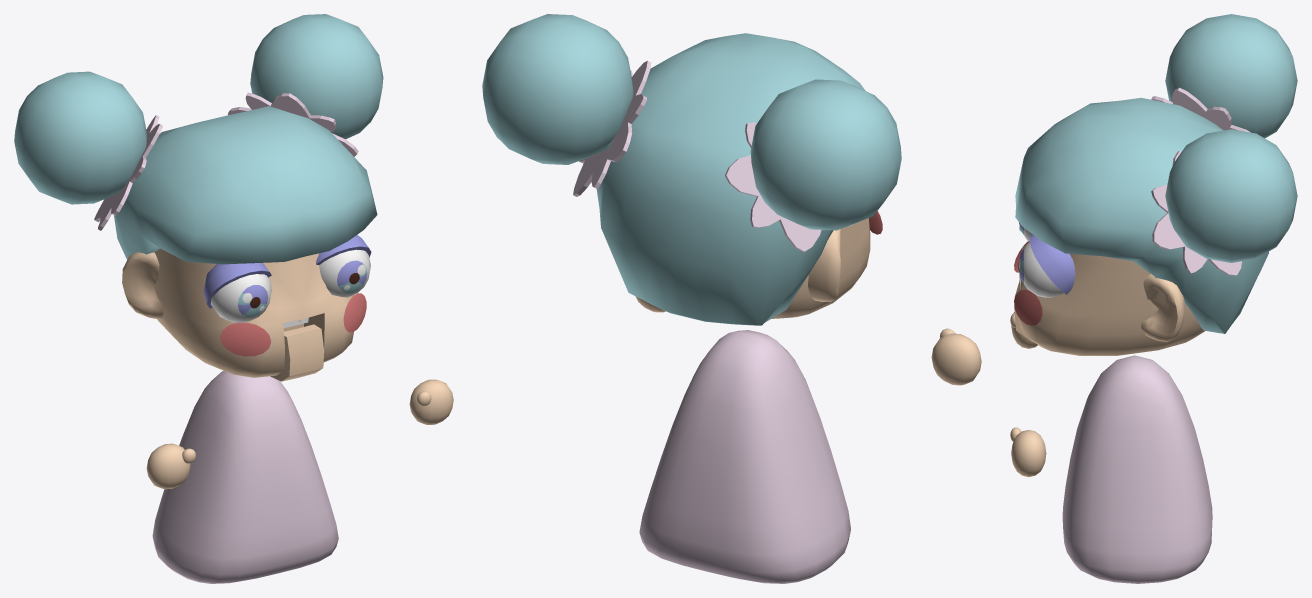
Rendered from enm_basic.fbx.
3 views of the same model, side by side, from view 1: azimuth 30°, elevation 25°; view 2: azimuth 150°, elevation 25°; view 3: azimuth 270°, elevation 25° (orthographic). The views are drawn at different scales.
Visible parts, largest first — view 1: enm_basic; view 2: enm_basic; view 3: enm_basic.
Part boxes in pixels (<box>): enm_basic: <box>14,14,453,583</box>; enm_basic: <box>482,14,981,583</box>; enm_basic: <box>1010,14,1297,583</box>.
Size of the model in its own units: 0.5477 by 0.7121 by 0.3887.
